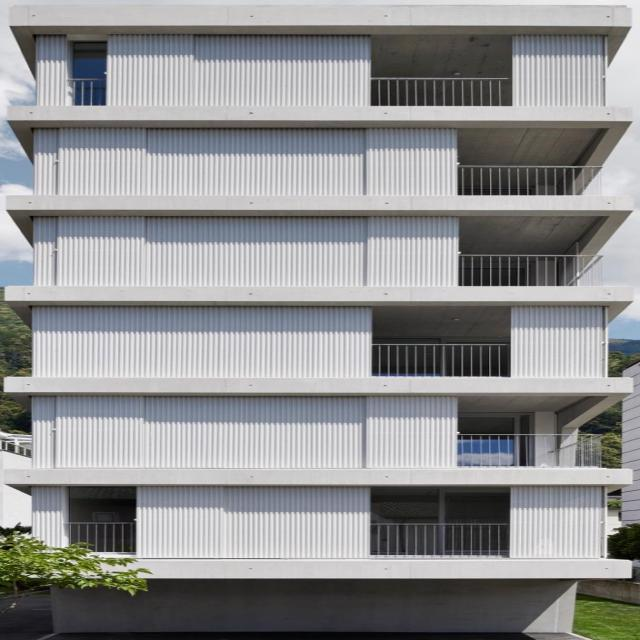railing: (374, 343, 512, 379), (364, 523, 510, 554), (463, 254, 608, 285), (465, 435, 607, 466), (461, 165, 596, 195), (376, 78, 513, 106), (72, 522, 144, 556), (70, 78, 109, 105)
window: (75, 42, 107, 79)
